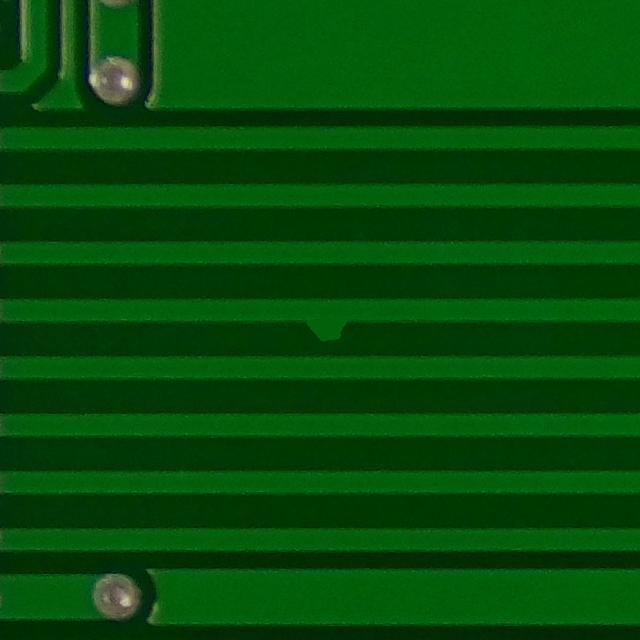spur: (276, 285, 365, 356)
